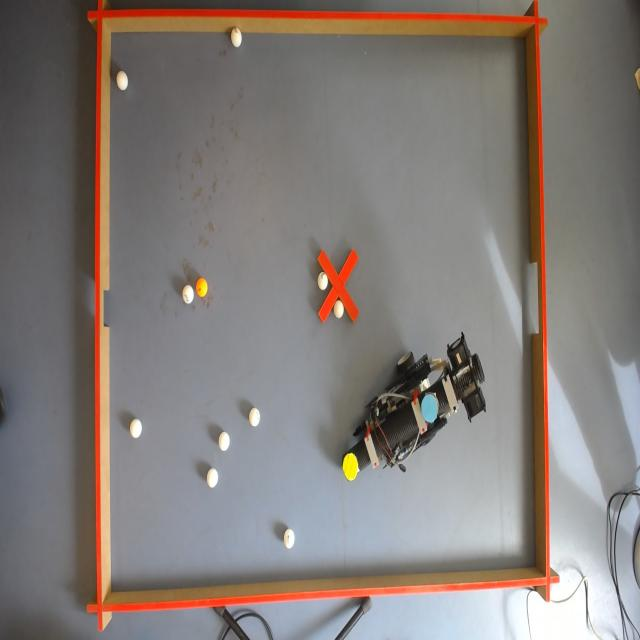orange: (197, 278, 208, 301)
robot: (326, 350, 482, 474)
robot-front: (342, 453, 358, 481)
robot-rear: (421, 394, 438, 423)
white: (129, 417, 145, 437), (218, 428, 230, 454), (205, 467, 219, 489), (284, 530, 297, 550), (248, 408, 261, 427), (117, 71, 128, 93), (332, 300, 343, 320), (184, 286, 196, 304), (316, 272, 328, 290), (231, 30, 243, 48)
